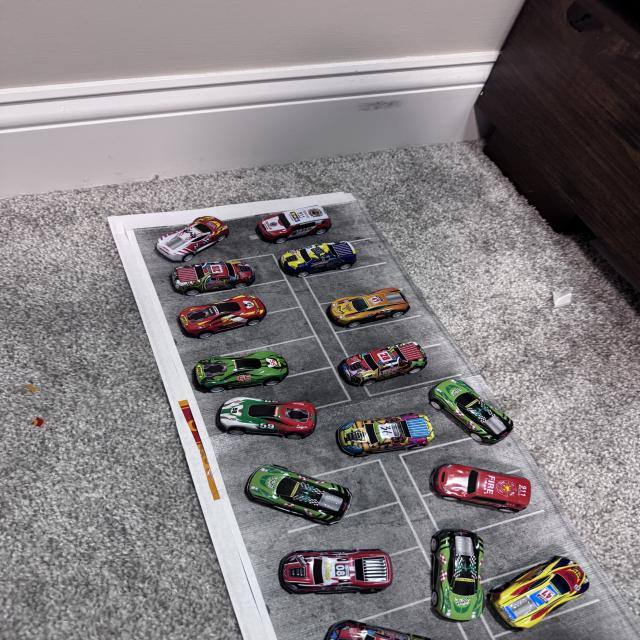Car: (476, 536, 591, 634), (396, 530, 497, 632), (235, 459, 353, 538), (420, 450, 560, 514), (420, 372, 531, 448), (272, 542, 409, 598), (201, 392, 324, 452), (182, 345, 298, 401), (330, 344, 445, 390), (146, 209, 236, 264), (326, 412, 443, 454), (178, 298, 274, 348), (275, 241, 375, 286), (253, 196, 330, 235), (321, 292, 413, 324), (162, 254, 240, 287), (304, 625, 458, 640)
